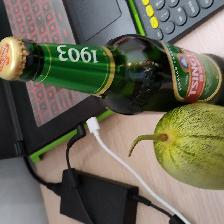gua: (147, 113, 224, 181)
